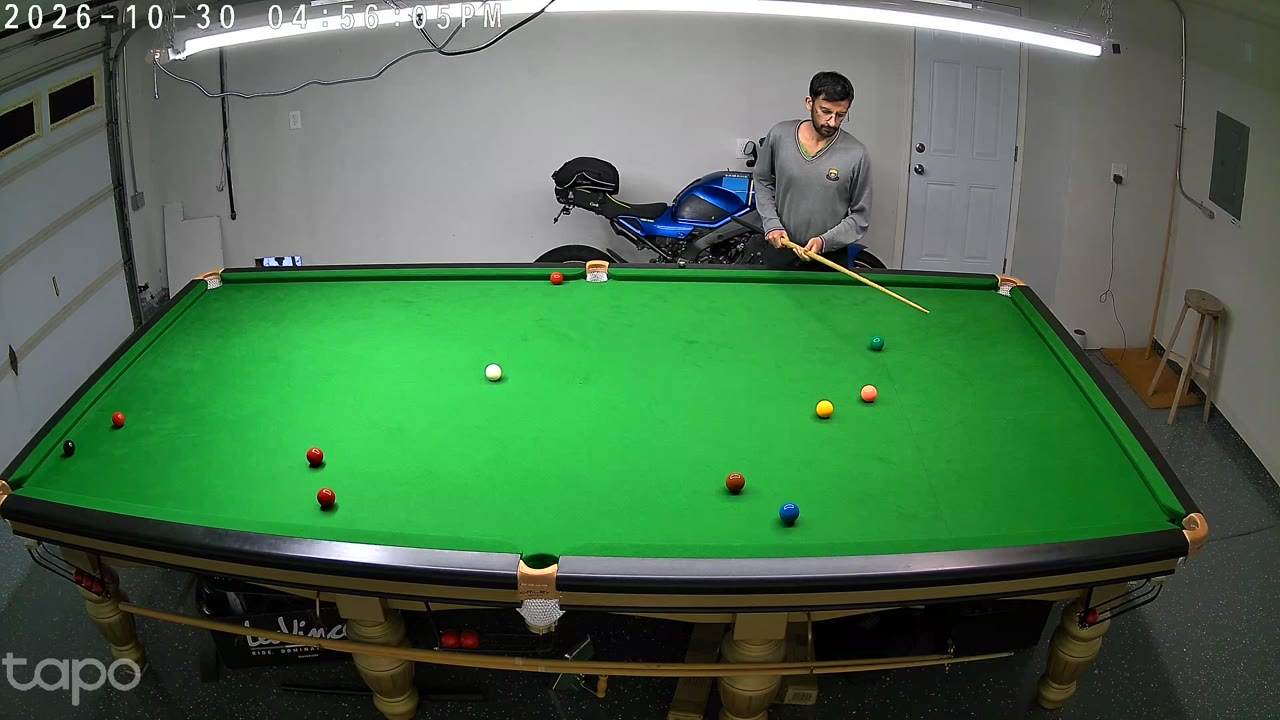black: (62, 438, 76, 459)
blue: (779, 499, 800, 528)
brown: (725, 471, 745, 496)
green: (870, 335, 884, 353)
pink: (860, 384, 876, 404)
red: (317, 486, 336, 513), (307, 445, 323, 469), (112, 410, 125, 430), (551, 271, 562, 287)
white: (486, 362, 501, 384)
yellow: (816, 400, 833, 420)
